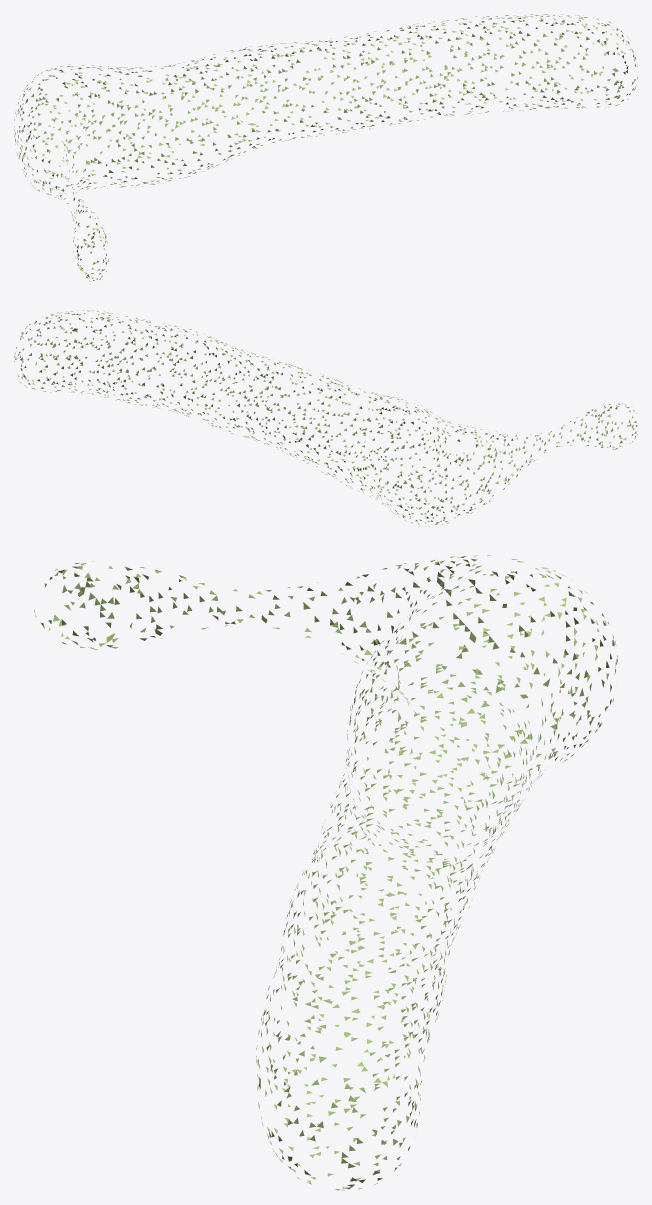
The model's file is morph_012.glb.
3 renders of one model, top to bottom at view 1: azimuth 30°, elevation 25°; view 2: azimuth 150°, elevation 25°; view 3: azimuth 270°, elevation 25°, orthographic. The views are drawn at different scales.
Bounding box in the file's own units: 122 × 21.58 × 56.31.
